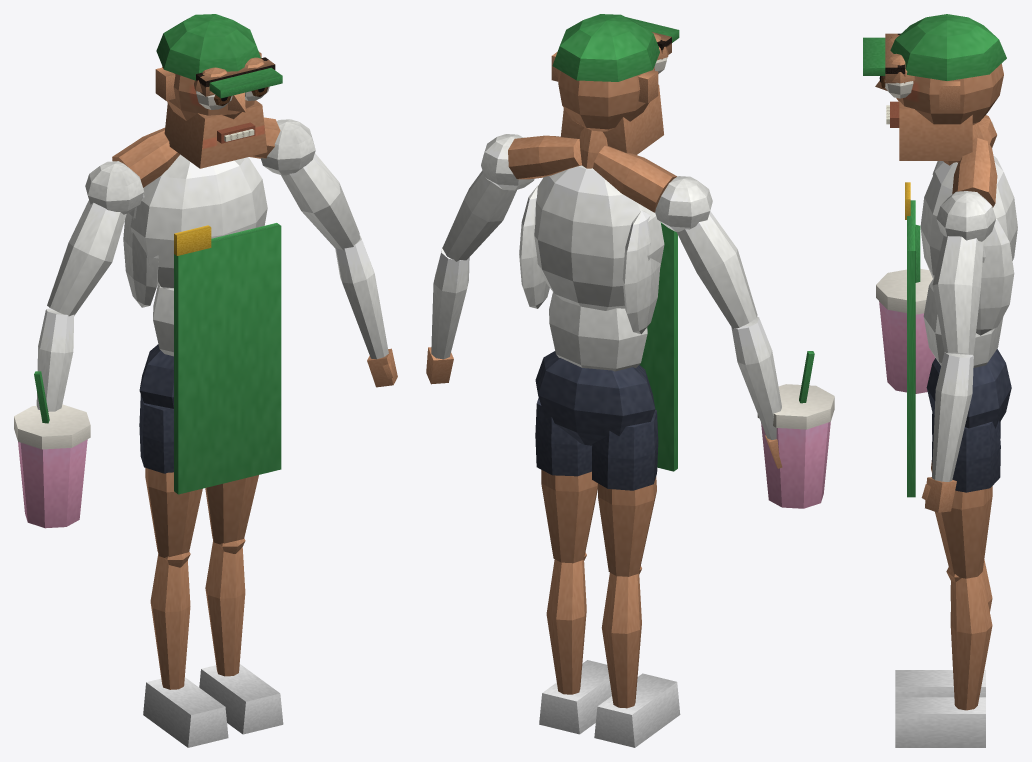
Rendered from MogLife_Townsfolk_VendorGrocery.fbx.
3 views of the same model, side by side, from view 1: azimuth 30°, elevation 25°; view 2: azimuth 150°, elevation 25°; view 3: azimuth 270°, elevation 25° (orthographic).
Visible parts, largest first — view 1: VendorGrocery; view 2: VendorGrocery; view 3: VendorGrocery.
Part boxes in pixels (bbox=[...]): VendorGrocery: bbox=[14, 14, 397, 747]; VendorGrocery: bbox=[426, 14, 834, 747]; VendorGrocery: bbox=[863, 14, 1017, 747].
Bounding box in the file's own units: 3.19 × 5.44 × 1.08.
1 material, 1 textured.
